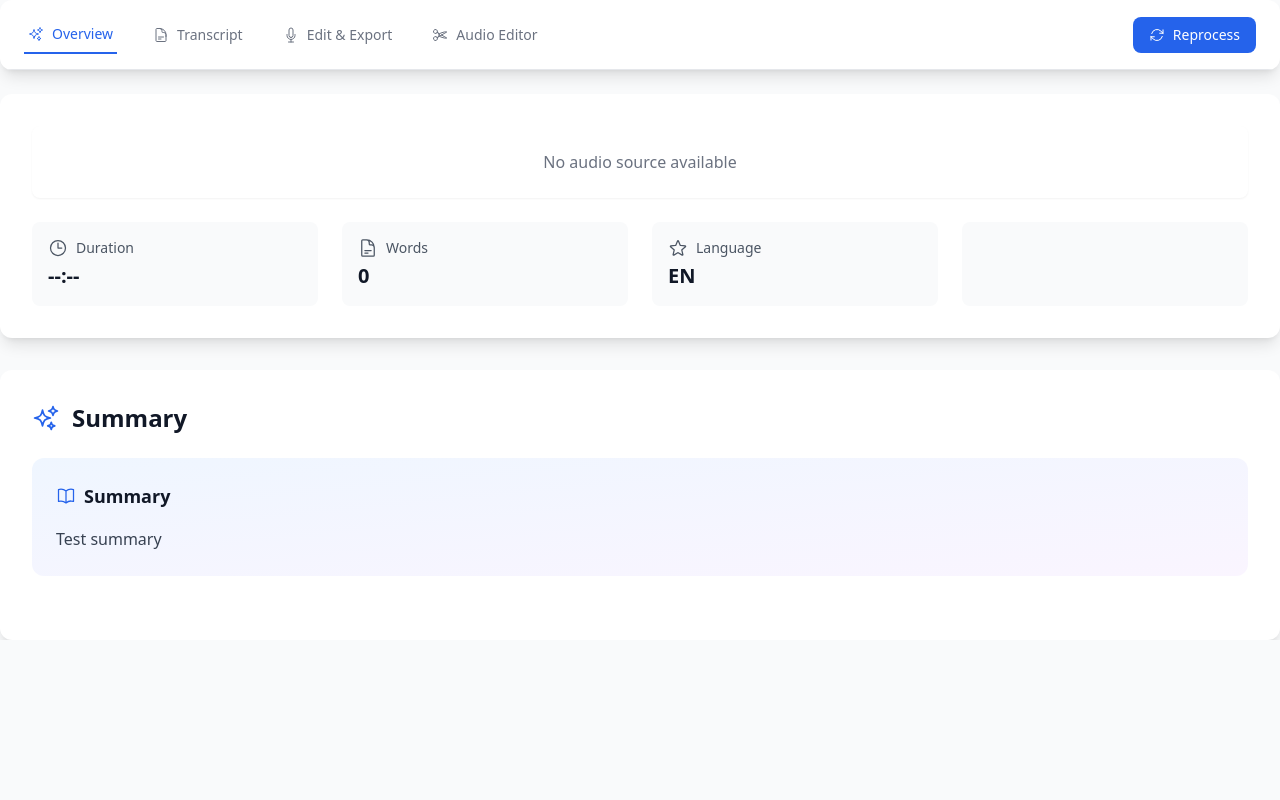
Test: ResultsDisplay2 › switches between tabs correctly
The width and height of the screenshot is (1280, 800).
Expected: the text "Test summary" is shown, left=56, top=528, right=162, bottom=550
// Click on transcript tab
Click the button "Transcript" at (198, 35), box left=149, top=16, right=247, bottom=54
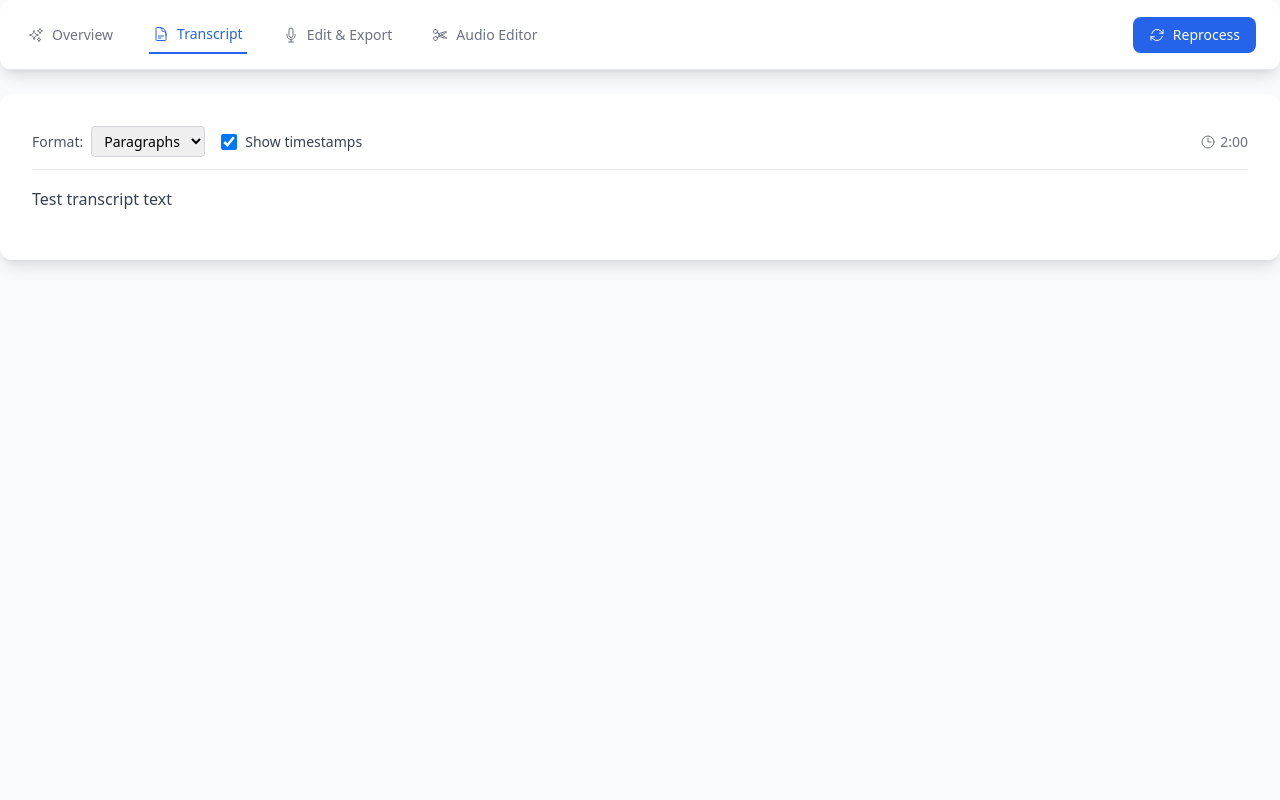
Now the text "Test transcript text" is shown, box left=32, top=188, right=172, bottom=210
